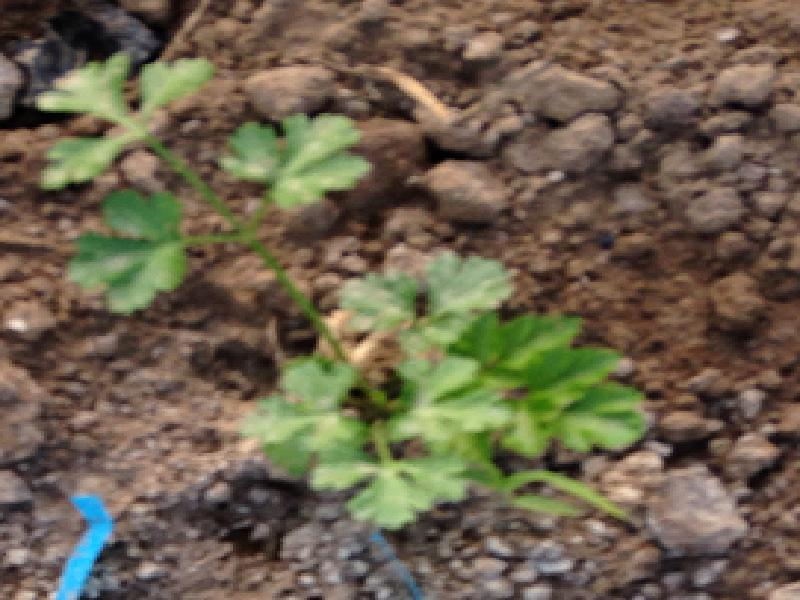radish: (15, 0, 800, 595)
